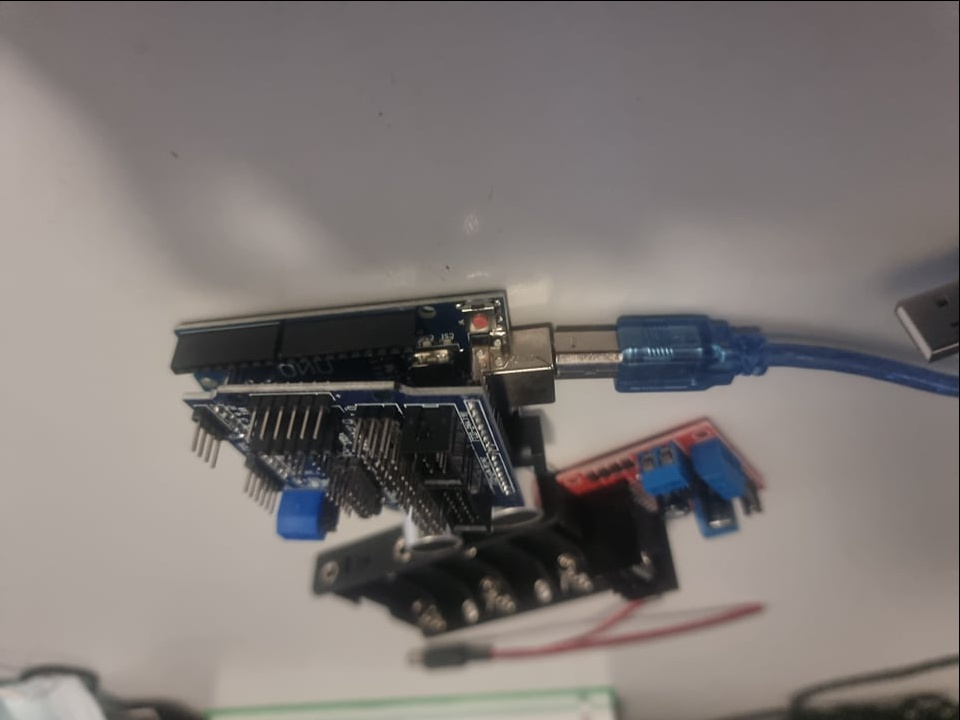5V EXPANSION: (180, 396, 519, 557)
BATTERY BOX: (303, 525, 588, 662)
MOTOR: (554, 417, 773, 611)
UNO R3: (171, 286, 571, 391)
